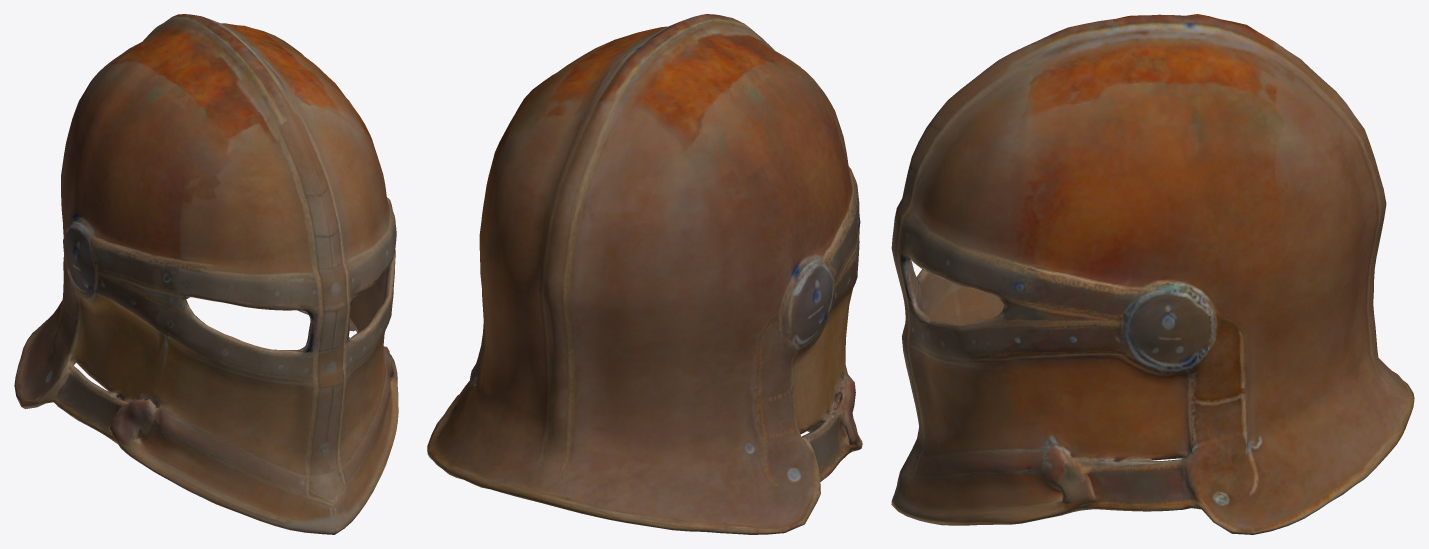
Rendered from Leather Helmet.glb.
3 views of the same model, side by side, from view 1: azimuth 30°, elevation 25°; view 2: azimuth 150°, elevation 25°; view 3: azimuth 270°, elevation 25° (orthographic). The views are drawn at different scales.
Parts seen in each view (by area): view 1: file1; view 2: file1; view 3: file1.
Part boxes in pixels (box(x1,y1,x2,y2)): file1: box(14, 14, 398, 534); file1: box(427, 14, 862, 534); file1: box(891, 14, 1414, 534).
Bounding box in the file's own units: 1.63 × 2 × 1.91.
Materials: 1 (1 with a texture image).
